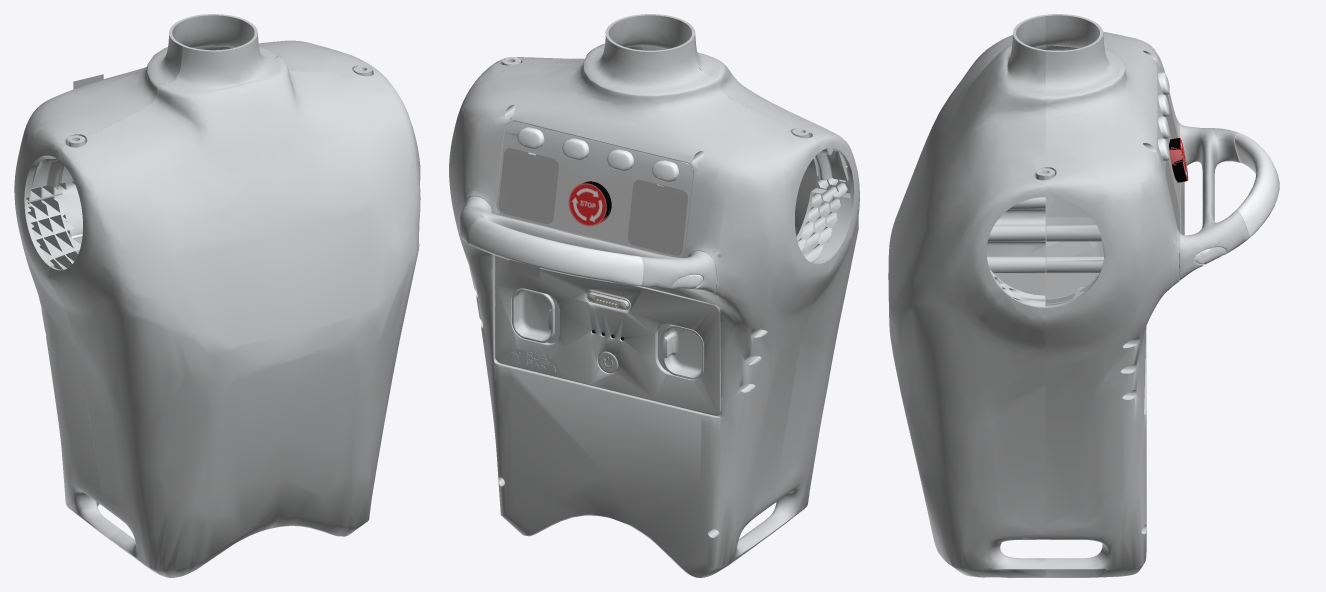
Rendered from rp1-torso-product-white.glb.
3 views of the same model, side by side, from view 1: azimuth 30°, elevation 25°; view 2: azimuth 150°, elevation 25°; view 3: azimuth 270°, elevation 25° (orthographic).
Visible parts, largest first — view 1: chest-1.001, chest-2, chest-3.002; view 2: chest-2, 电池本体2, chest-1.001, chest-1, chest-3, chest-4, chest-4.001, Cylinder, chest-3.002; view 3: chest-1.001, chest-2, chest-3, chest-1, Cylinder.
Boxes of the visible parts, x1,y1,x2,y2 form: chest-1.001: [48, 28, 420, 577]; chest-2: [14, 14, 378, 548]; chest-3.002: [31, 135, 85, 187]; chest-2: [449, 19, 829, 577]; 电池本体2: [495, 255, 721, 415]; chest-1.001: [496, 14, 859, 545]; chest-1: [468, 218, 643, 286]; chest-3: [459, 196, 716, 293]; chest-4: [498, 148, 558, 223]; chest-4.001: [627, 179, 687, 255]; Cylinder: [568, 181, 611, 226]; chest-3.002: [792, 127, 848, 180]; chest-1.001: [888, 14, 1045, 577]; chest-2: [1045, 14, 1184, 577]; chest-3: [1179, 123, 1249, 280]; chest-1: [1235, 133, 1279, 237]; Cylinder: [1169, 138, 1188, 182].
Bounding box in the file's own units: 0.252 × 0.345 × 0.2657.
Materials: 8 (1 with a texture image).
